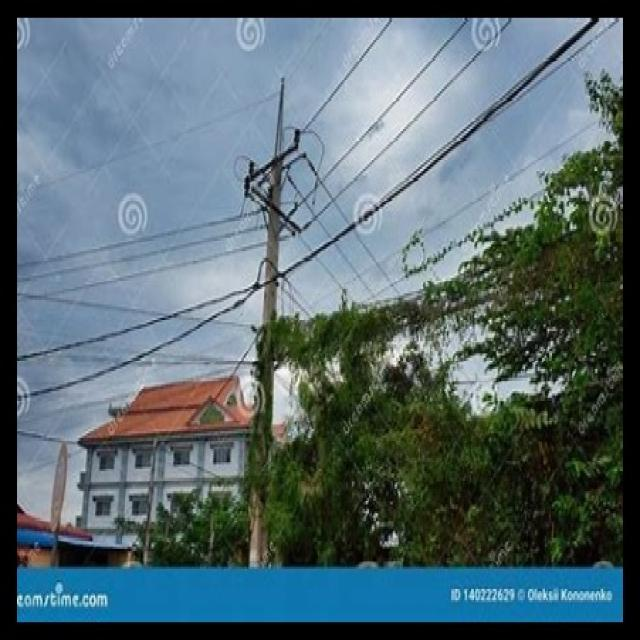critical vegetation: (263, 268, 623, 401)
